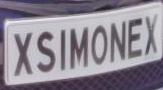0: (89, 21, 110, 71)
1: (55, 25, 70, 76)
E: (127, 14, 144, 60)
M: (68, 22, 90, 75)
N: (110, 19, 127, 66)
S: (34, 27, 59, 78)
X: (11, 28, 35, 81), (142, 8, 160, 57)
